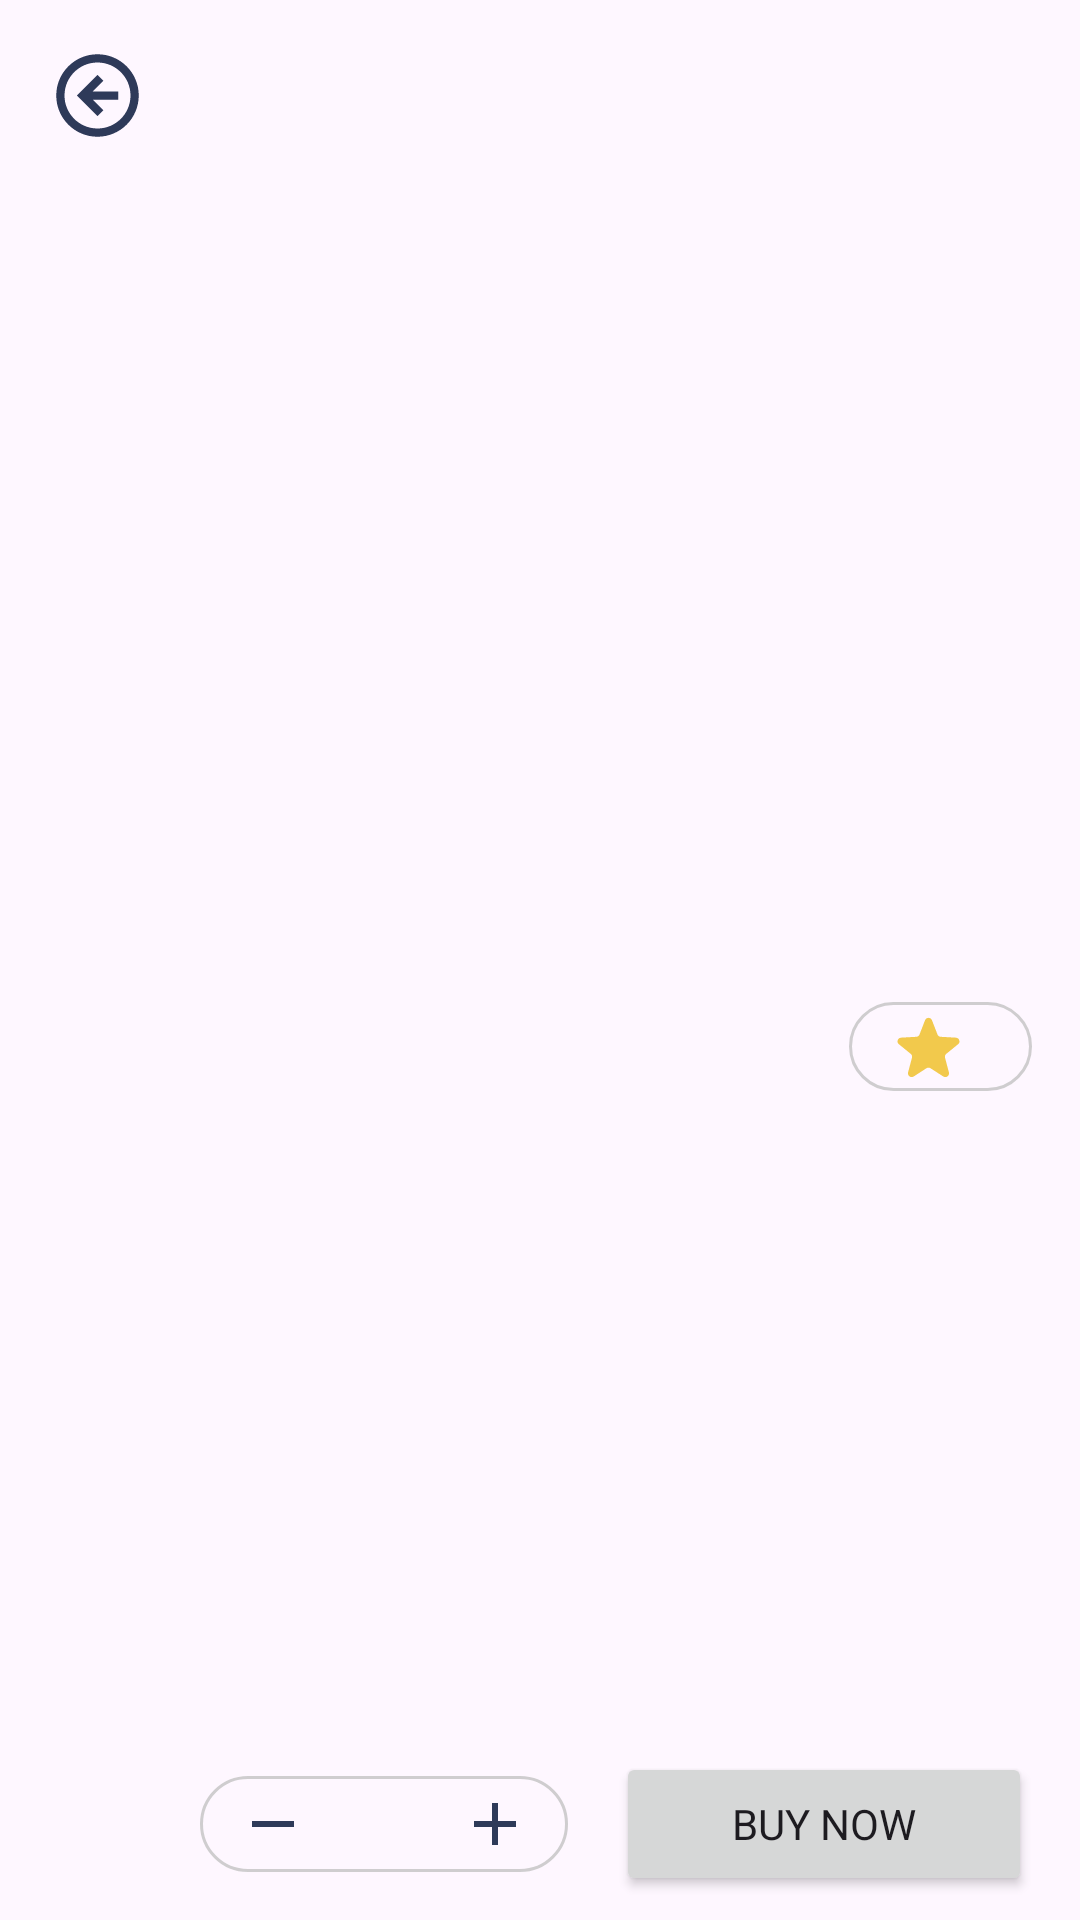

Screen size 1080x1920. Icon name, then its center in pixels as (x,y):
back: (97,95)
plus: (495,1824)
